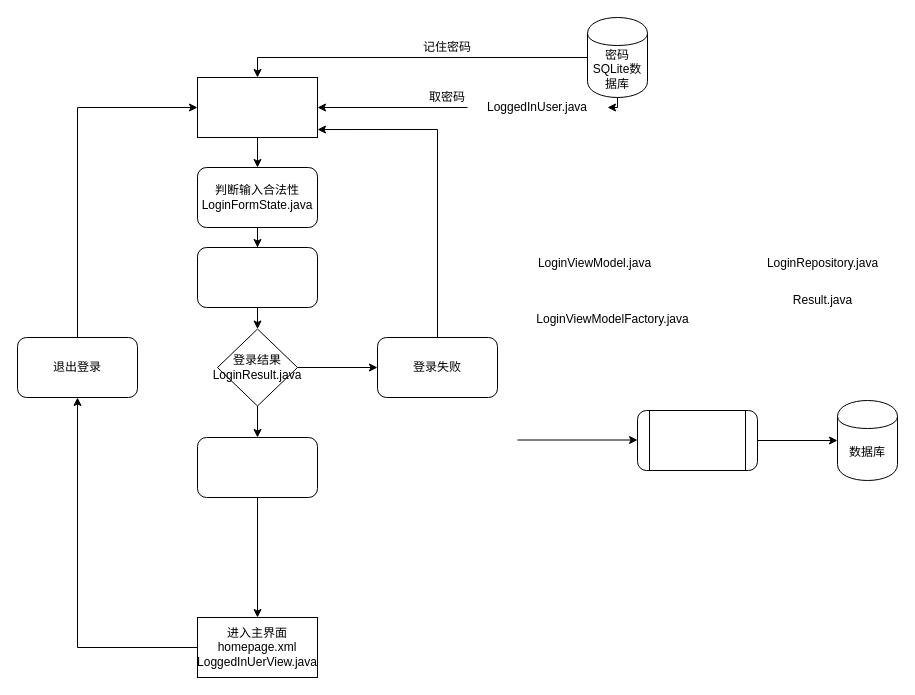
Image size: 915x695. Some labels were removed from this diagram. Here are the shapes that lost their labels. From the top down, the centre of each, then its label:
At (257,107): "登录 Activity_login.xml Login_Activity.java".
At (257,277): "判断登录状况 LoginDataSource.java".
At (697,440): "获取数据".
At (257,467): "登陆成功".
